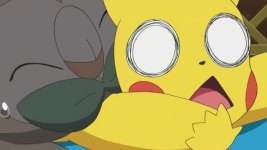pikachu: (54, 1, 266, 149)
